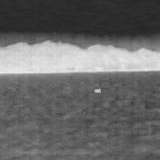Target: (93, 88, 102, 94)
